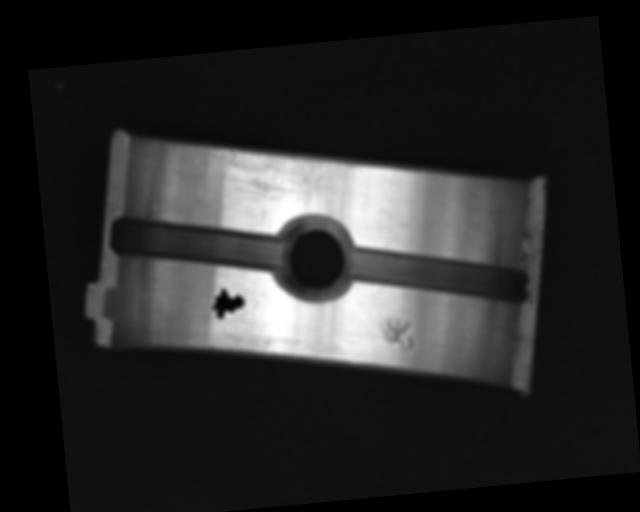blot: (207, 285, 247, 320)
bruise: (378, 316, 416, 354)
gap: (346, 229, 530, 319), (107, 202, 287, 284)
hole: (269, 211, 358, 300)
scratch: (193, 130, 358, 216)
